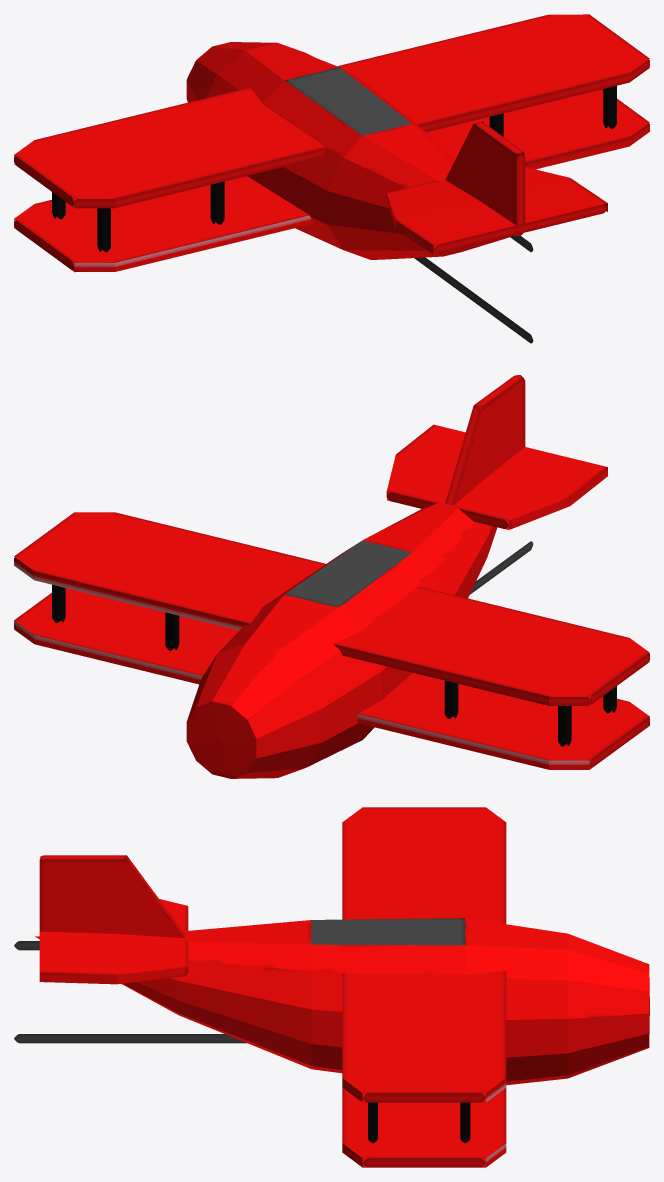
File: aviao.obj
The picture shows the model from 3 angles, top to bottom: view 1: azimuth 30°, elevation 25°; view 2: azimuth 150°, elevation 25°; view 3: azimuth 270°, elevation 25°; orthographic projection.
Visible parts, largest first — view 1: sphere, cube; view 2: sphere, cube; view 3: sphere, cube.
Part boxes in pixels (bbox=[...]): sphere: bbox=[14, 14, 649, 272]; cube: bbox=[414, 235, 533, 343]; sphere: bbox=[14, 375, 649, 778]; cube: bbox=[470, 541, 533, 594]; sphere: bbox=[35, 807, 649, 1167]; cube: bbox=[14, 941, 246, 1043].
Size of the model in its own units: 4.12 by 1.5 by 3.88.
Materials: 1 (1 with a texture image).
